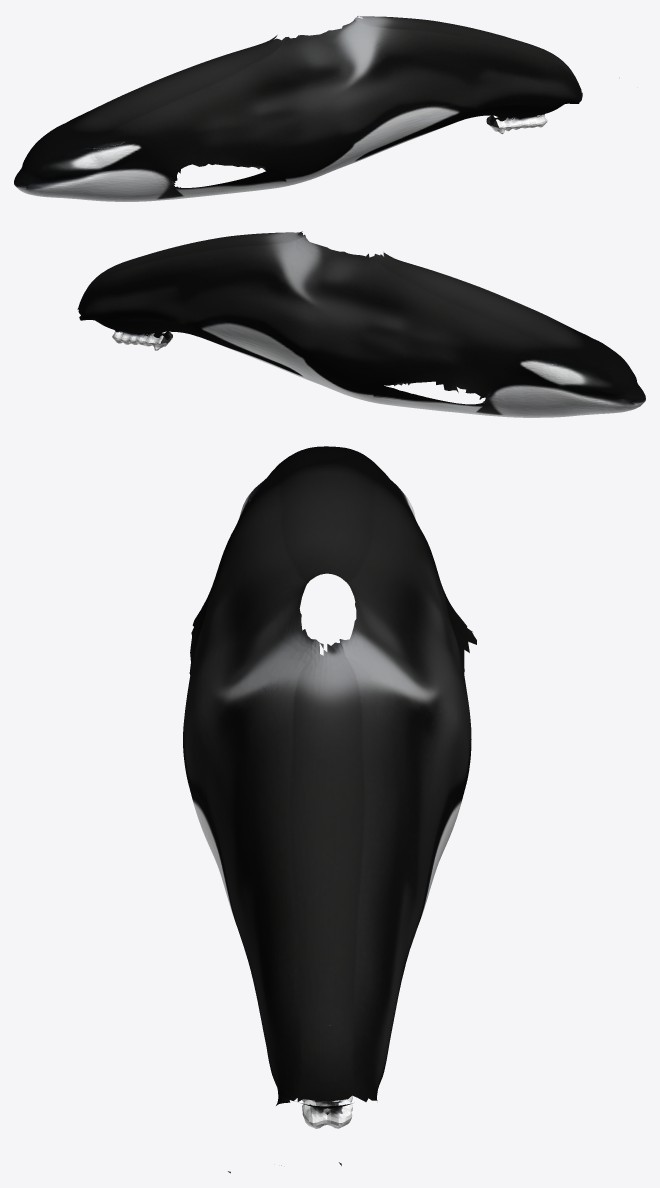
The model's file is body.glb.
3 views of the same model, one above another, from view 1: azimuth 30°, elevation 25°; view 2: azimuth 150°, elevation 25°; view 3: azimuth 270°, elevation 25° (orthographic). The views are drawn at different scales.
Parts seen in each view (by area): view 1: Body; view 2: Body; view 3: Body.
Part boxes in pixels (box(x1,y1,x2,y2)): Body: box(14, 16, 582, 201); Body: box(77, 231, 645, 417); Body: box(183, 446, 476, 1173).
Size of the model in its own units: 1.99 by 0.4817 by 0.416.
Materials: 1 (1 with a texture image).
